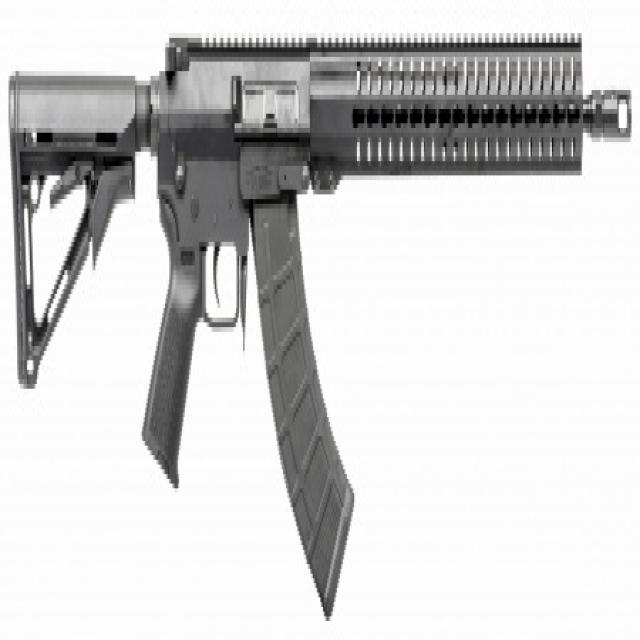rifle: (1, 1, 640, 627)
